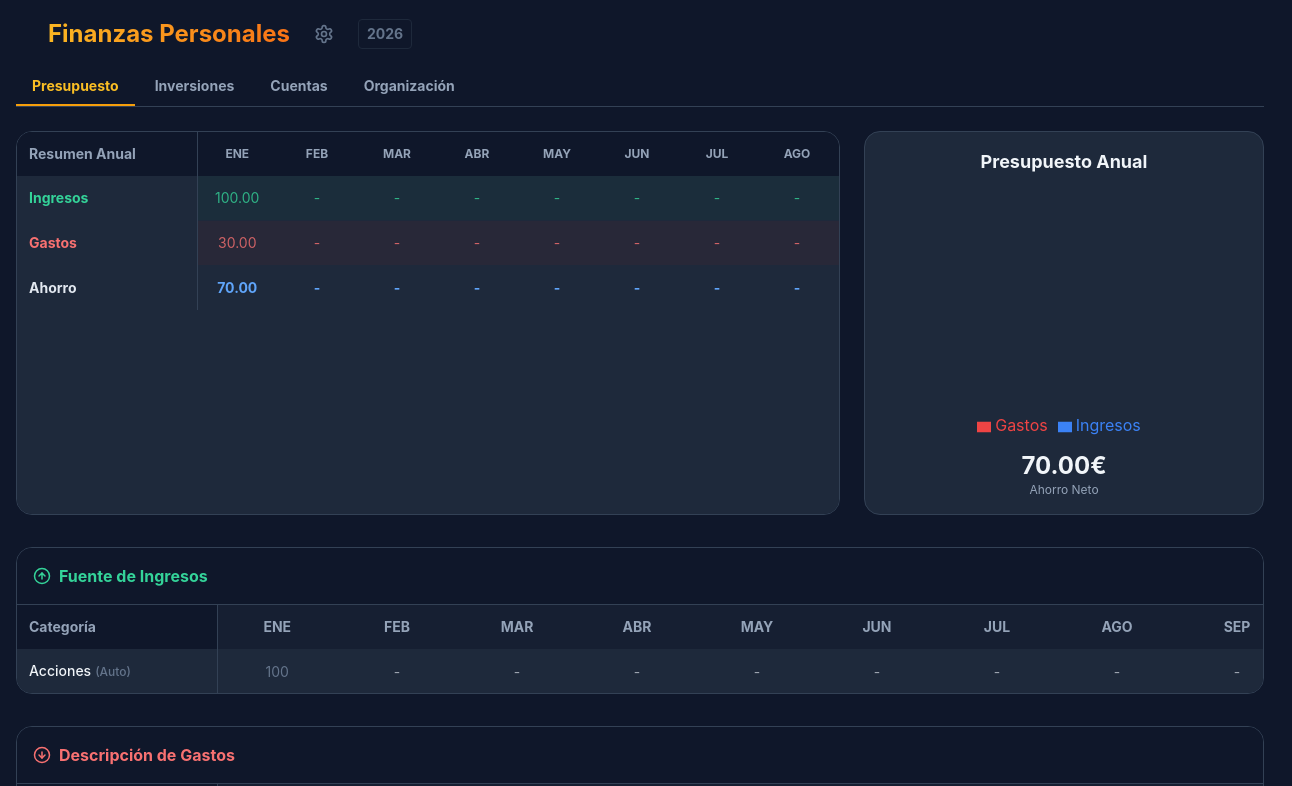
it: Finances automatic stock amounts › renders separate automatic income and expense rows and three sales totals
Expected: the 1st number field holds "100", [218,654,337,688]
Expected: the 1st number field is disabled, [218,654,337,688]
Step 1. Click the button "Inversiones" → (194, 91), box [139,76,250,106]
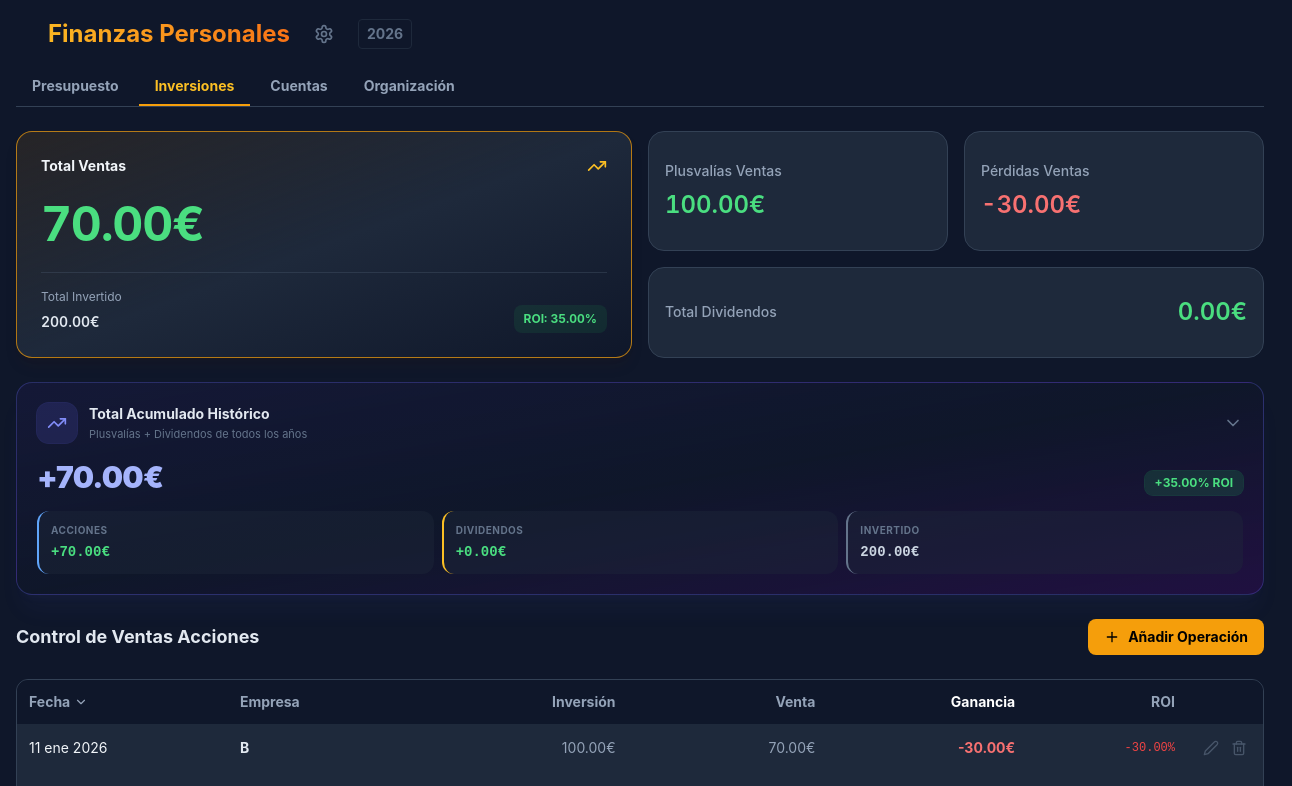
Now the text "100.00€" is shown, box [665,190,765,219]
Now the text "-30.00€" is shown, box [981,190,1081,219]
Now the text "70.00€" is shown, box [41,200,204,248]
